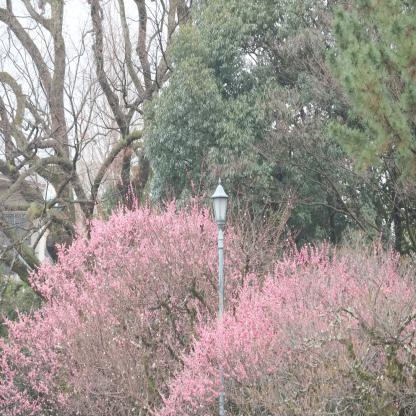Ume: (0, 169, 304, 416), (148, 218, 416, 416)
